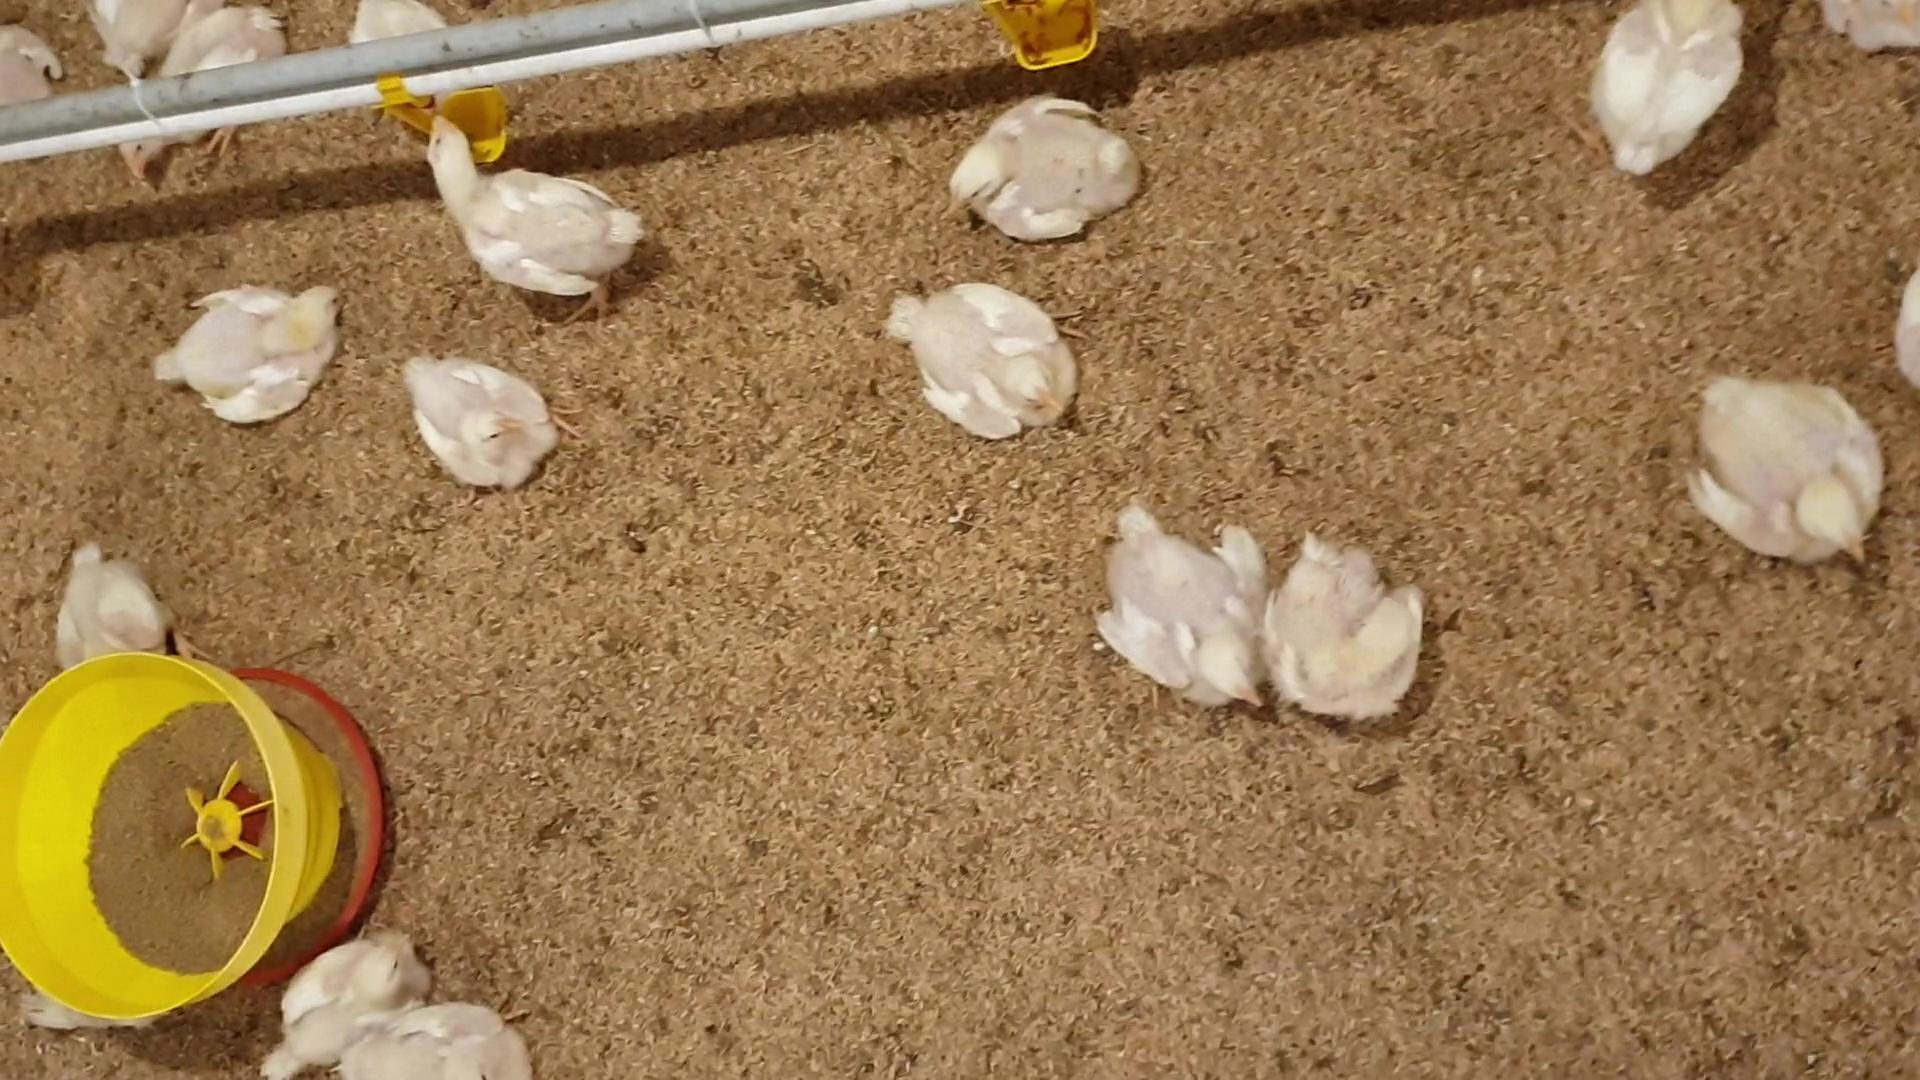Pollos: (417, 113, 646, 301), (1689, 363, 1880, 564), (1092, 498, 1265, 715), (887, 281, 1091, 443), (1590, 0, 1758, 182), (1275, 529, 1432, 721), (164, 277, 353, 426), (951, 94, 1146, 235), (394, 351, 578, 495)
